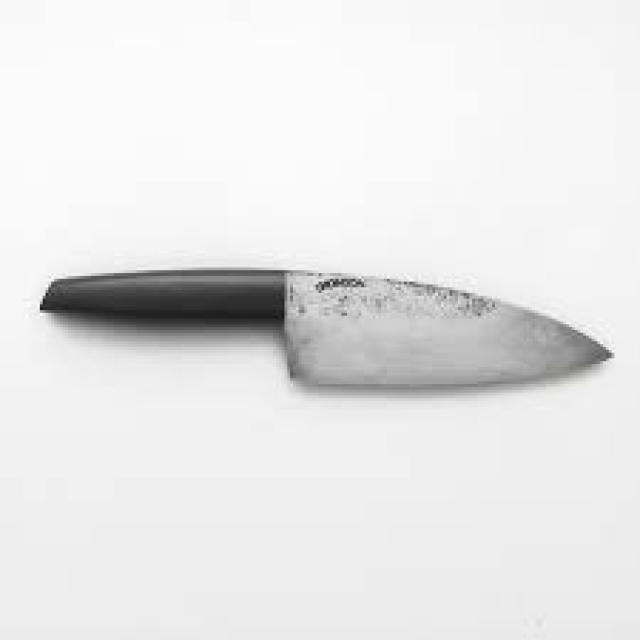Knife: (37, 264, 614, 387)
